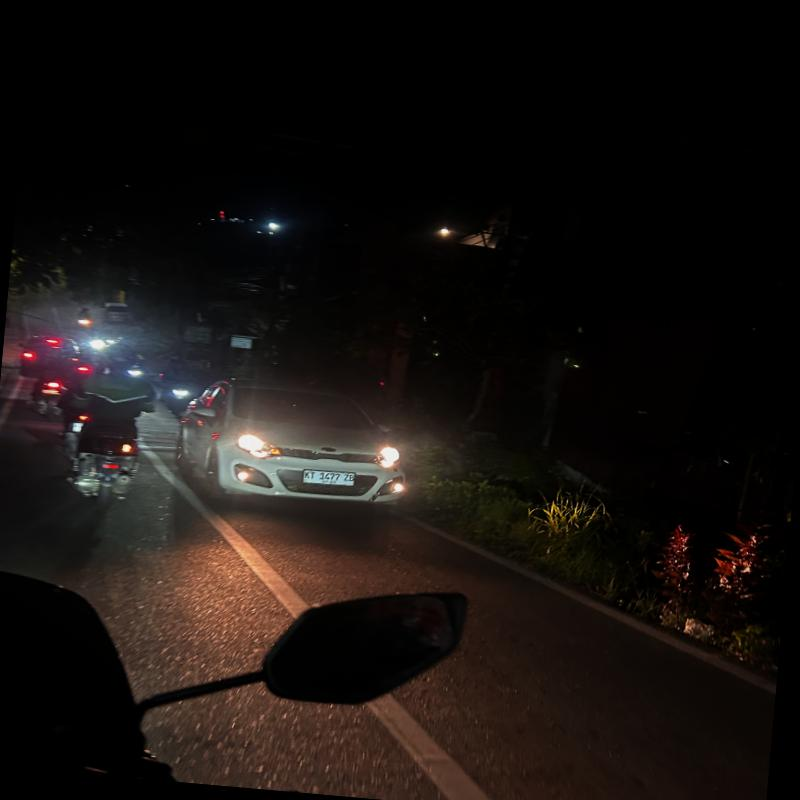license plate on a car: (294, 466, 364, 492)
